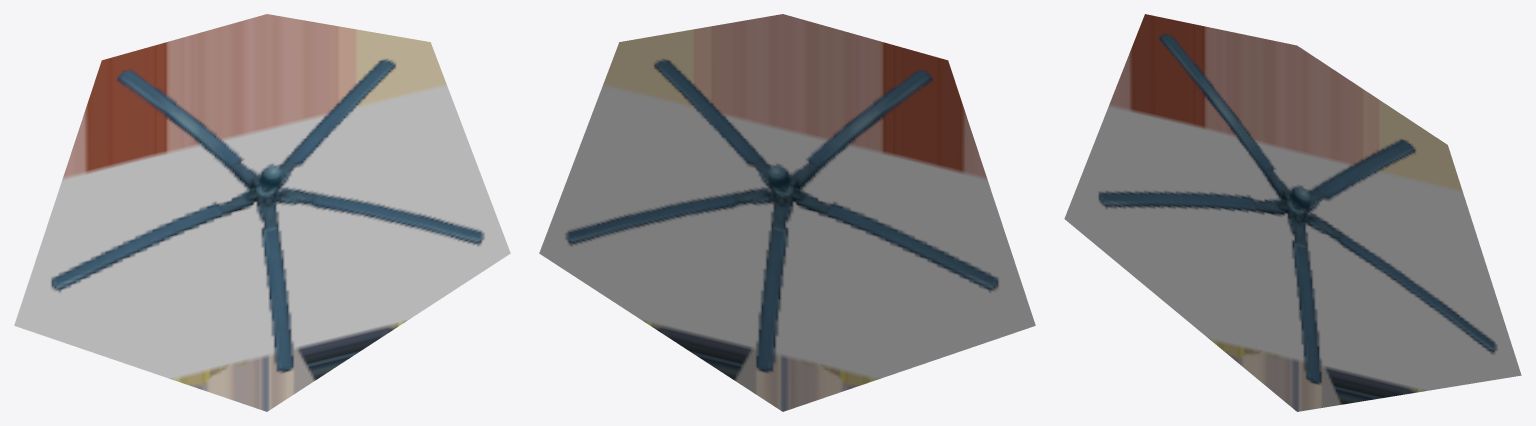
File: SceneBattle03_wujian01_fbx.FBX
3 renders of one model, left to right at view 1: azimuth 30°, elevation 25°; view 2: azimuth 150°, elevation 25°; view 3: azimuth 330°, elevation 25°, orthographic. The views are drawn at different scales.
Parts seen in each view (by area): view 1: SceneBattle03_wujian01_fbx001; view 2: SceneBattle03_wujian01_fbx001; view 3: SceneBattle03_wujian01_fbx001.
Part boxes in pixels (left/top/right/bottom): SceneBattle03_wujian01_fbx001: left=14, top=14, right=510, bottom=411; SceneBattle03_wujian01_fbx001: left=539, top=14, right=1035, bottom=411; SceneBattle03_wujian01_fbx001: left=1064, top=14, right=1521, bottom=411.
Size of the model in its own units: 4.06 by 3.11 by 4.7e-06.
1 material, 1 textured.
